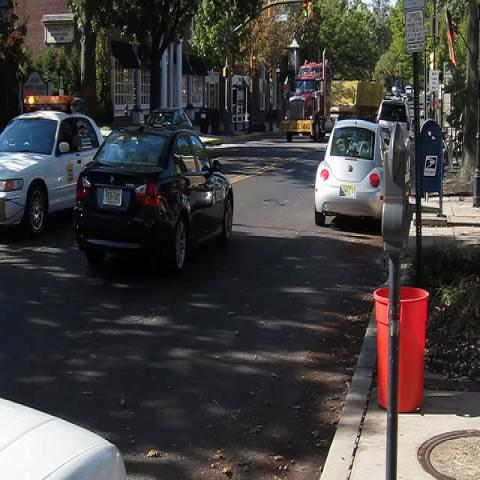car: (73, 122, 234, 270), (0, 107, 105, 236), (312, 117, 386, 226), (374, 100, 412, 149), (146, 107, 193, 129), (402, 95, 409, 104), (420, 107, 425, 118)
truck: (280, 57, 333, 146)
